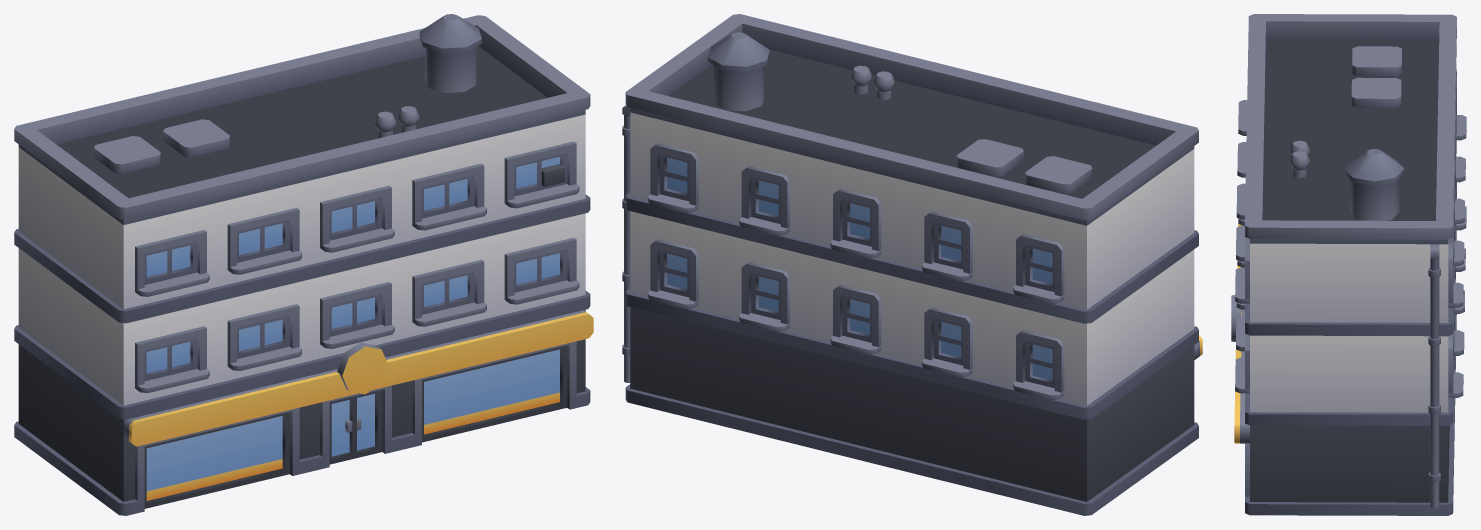
The model's file is building-k.005_lev1.glb.
3 renders of one model, left to right at view 1: azimuth 30°, elevation 25°; view 2: azimuth 150°, elevation 25°; view 3: azimuth 270°, elevation 25°, orthographic. The views are drawn at different scales.
Visible parts, largest first — view 1: building-k.005_lev1; view 2: building-k.005_lev1; view 3: building-k.005_lev1.
Part boxes in pixels (x1,y1,x2,y2): building-k.005_lev1: (14,14,593,515); building-k.005_lev1: (622,14,1202,515); building-k.005_lev1: (1231,14,1466,515).
Bounding box in the file's own units: 8.36 × 5.88 × 3.8.
1 material, 1 textured.
